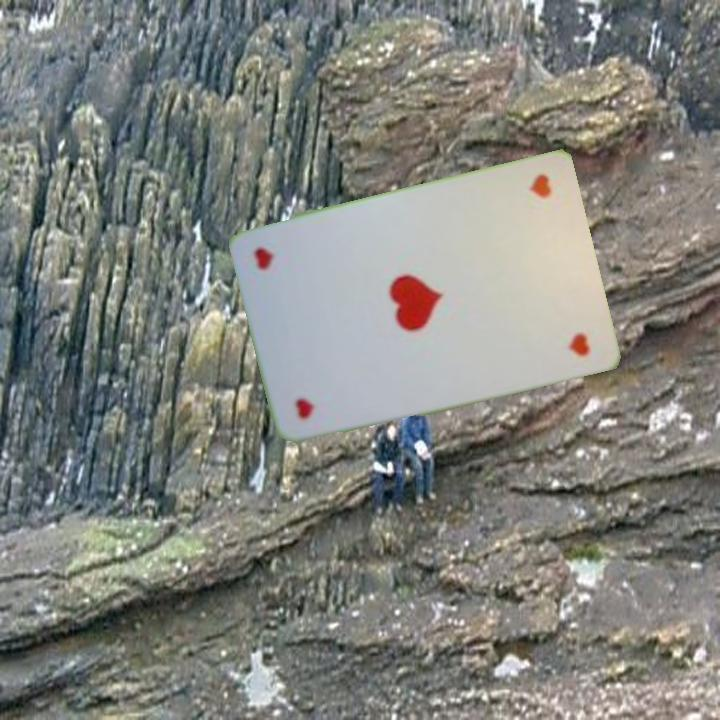h_a.png: (474, 167, 580, 284), (268, 315, 374, 431)
